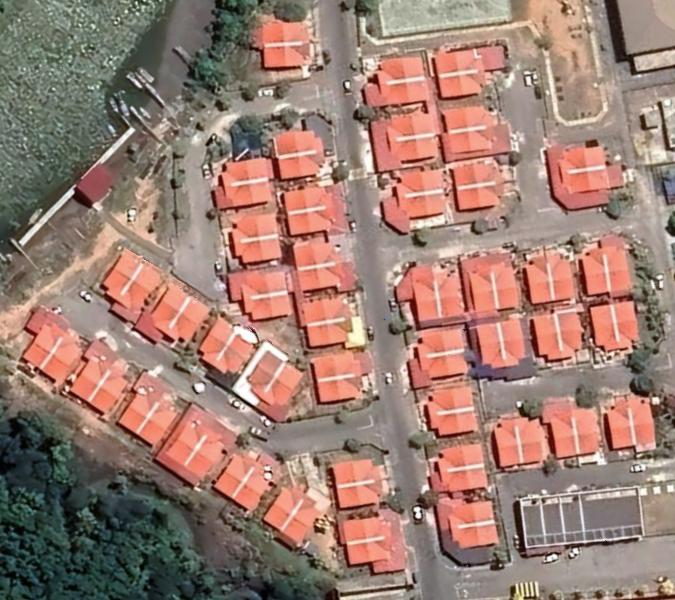building: (149, 399, 238, 496), (108, 364, 195, 462), (222, 337, 309, 430), (539, 135, 634, 217), (10, 297, 88, 395), (204, 435, 289, 523), (60, 329, 136, 425), (128, 274, 219, 354), (93, 240, 172, 329), (386, 251, 473, 331), (188, 310, 265, 393), (331, 505, 414, 582), (370, 164, 452, 241), (252, 478, 328, 558), (426, 494, 502, 572), (362, 105, 442, 178), (426, 38, 512, 104), (402, 321, 476, 396), (438, 102, 521, 168), (536, 391, 605, 468), (467, 313, 538, 387), (357, 47, 434, 113), (442, 158, 525, 218), (485, 407, 556, 477), (459, 246, 525, 321), (304, 348, 382, 411), (278, 180, 356, 242), (517, 240, 584, 312), (575, 231, 641, 304), (322, 452, 399, 514), (288, 237, 368, 296), (207, 147, 276, 215), (601, 386, 662, 462), (222, 265, 296, 326), (295, 295, 372, 353), (421, 438, 496, 497), (524, 304, 589, 369), (418, 380, 486, 442), (221, 209, 287, 271), (267, 124, 331, 185), (585, 296, 644, 360), (256, 17, 322, 71)
